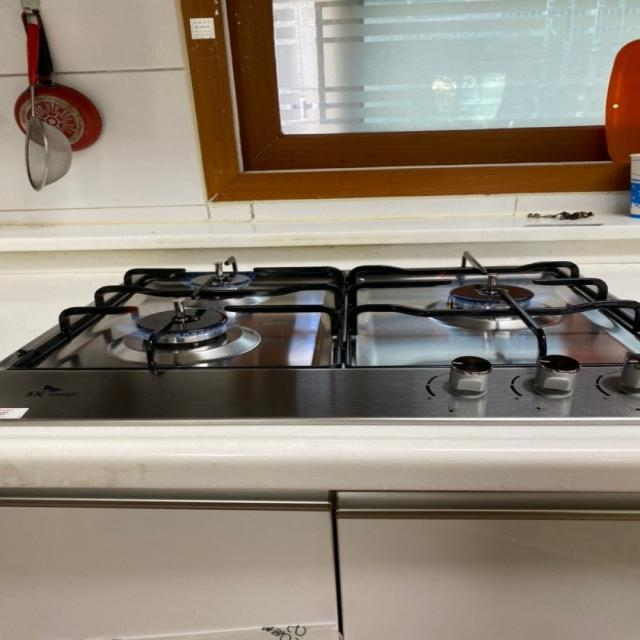knob_ON: (92, 302, 296, 373), (417, 262, 570, 347), (166, 244, 300, 308)
